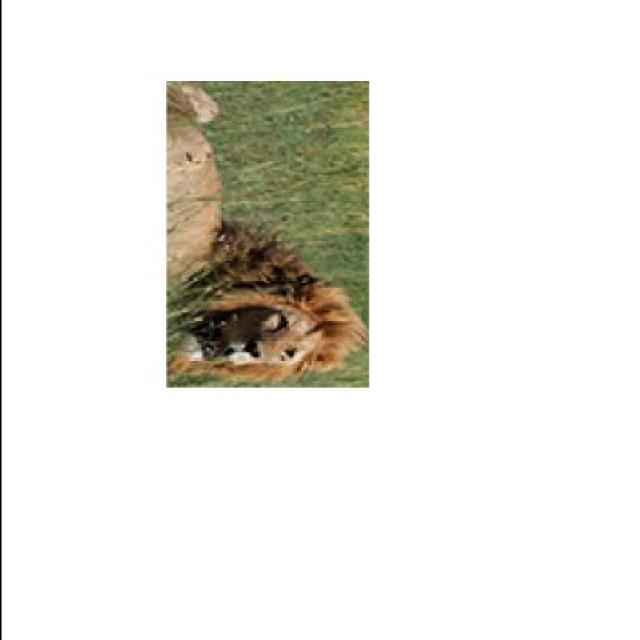Lion: (160, 234, 382, 391)
